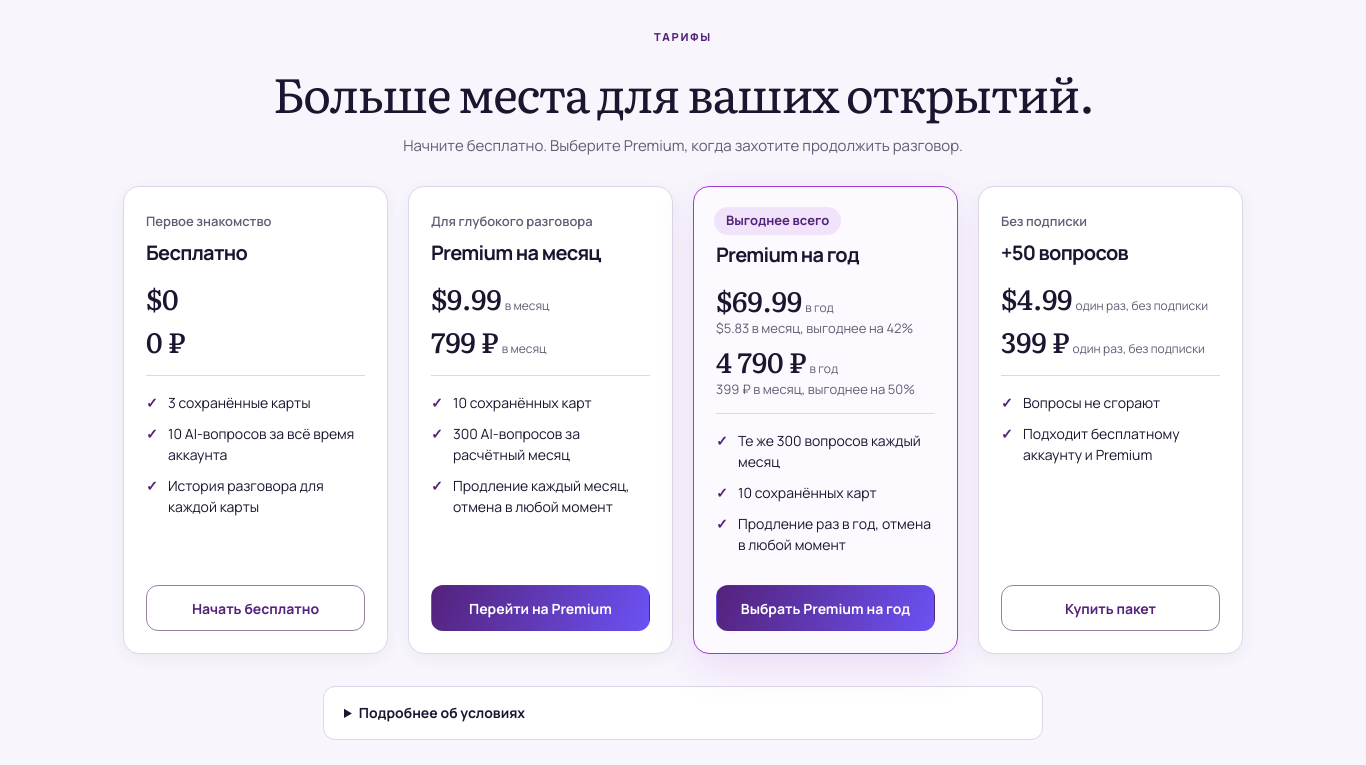
Scenario: 4. no method at all › a month nobody sells: its own window says so and gives no payment button, no other product, no old month window
Step 1. Click the button "Перейти на Premium" → coordinates (540, 608), box top-left (431, 585), bottom-right (650, 631)
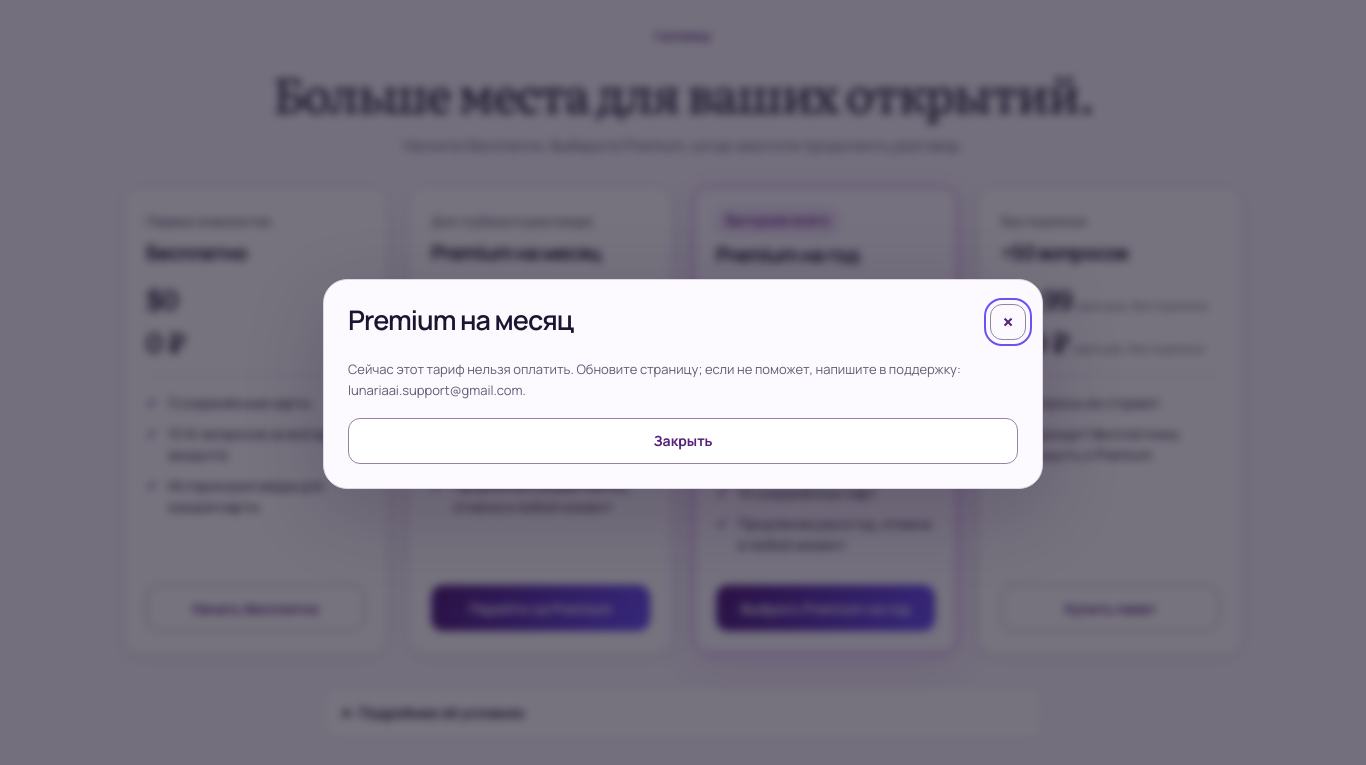
Expected: the text "Premium на год" is not shown
Now the text "Сейчас этот тариф нельзя оплатить. Обновите страницу; если не поможет, напишите в поддержку: lunariaai.support@gmail.com." is shown, box top-left (348, 359), bottom-right (1018, 402)
